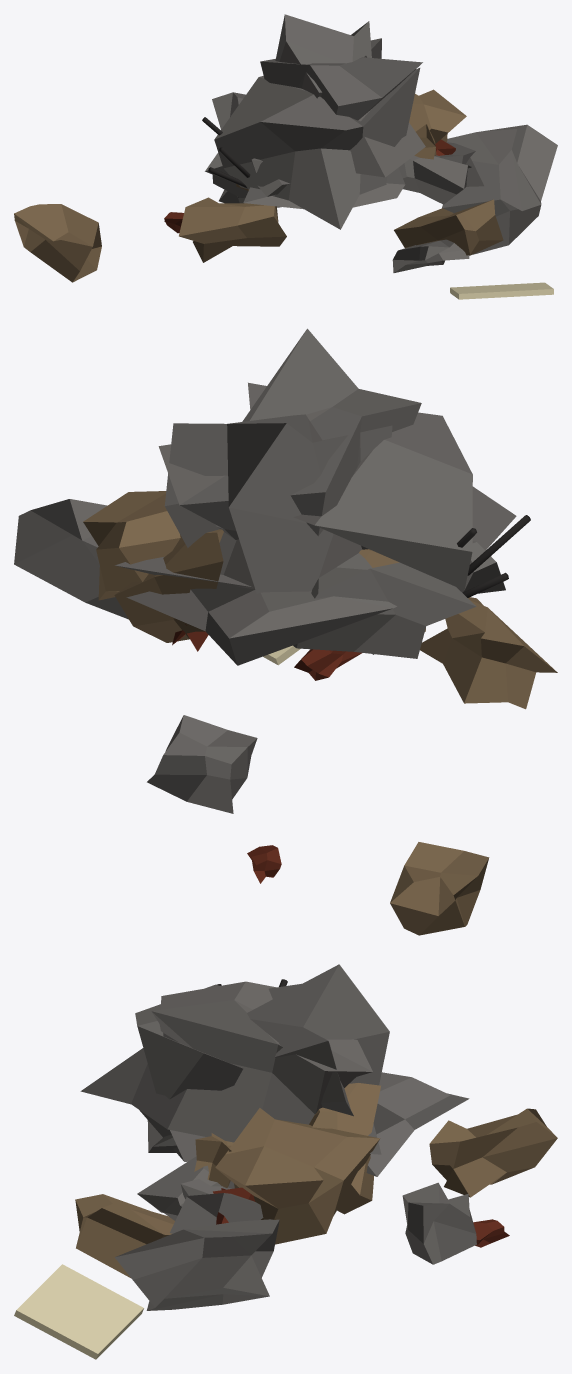
File: cover_rubble_2.glb
3 views of the same model, one above another, from view 1: azimuth 30°, elevation 25°; view 2: azimuth 150°, elevation 25°; view 3: azimuth 270°, elevation 25° (orthographic). The views are drawn at different scales.
Visible parts, largest first — view 1: lump_23, lump_21, lump_8, lump_15, lump_5, lump_7, lump_10, slab, lump_9, lump_6, lump_11, frame (+3 smaller); view 2: lump_7, lump_23, lump_8, slab, lump_12, lump_5, lump_21, lump_4, lump_15, lump_6, lump_0, lump_13 (+1 smaller); view 3: lump_8, lump_6, lump_21, lump_7, lump_23, lump_15, frame, slab, lump_10, lump_4, lump_0, lump_2 (+3 smaller).
Boxes of the visible parts, <box> form: lump_23: <box>214,68,420,229</box>; lump_21: <box>442,124,557,254</box>; lump_8: <box>260,38,425,177</box>; lump_15: <box>14,204,101,282</box>; lump_5: <box>179,197,286,262</box>; lump_7: <box>275,14,371,98</box>; lump_10: <box>394,199,503,255</box>; slab: <box>212,92,405,209</box>; lump_9: <box>403,155,471,204</box>; lump_6: <box>409,89,466,143</box>; lump_11: <box>392,239,469,272</box>; frame: <box>450,282,553,299</box>; lump_7: <box>164,414,392,593</box>; lump_23: <box>248,382,516,592</box>; lump_8: <box>158,328,421,539</box>; slab: <box>115,541,505,665</box>; lump_12: <box>293,553,476,658</box>; lump_5: <box>420,597,557,709</box>; lump_21: <box>14,499,128,619</box>; lump_4: <box>147,715,257,813</box>; lump_15: <box>390,842,489,935</box>; lump_6: <box>83,491,180,600</box>; lump_0: <box>114,529,223,642</box>; lump_13: <box>294,649,361,680</box>; lump_8: <box>131,981,372,1142</box>; lump_6: <box>215,1108,380,1244</box>; lump_21: <box>115,1219,279,1310</box>; lump_7: <box>247,964,389,1116</box>; lump_23: <box>80,984,242,1161</box>; lump_15: <box>429,1108,557,1197</box>; frame: <box>14,1264,143,1359</box>; slab: <box>147,1072,469,1176</box>; lump_10: <box>75,1194,174,1277</box>; lump_4: <box>402,1182,476,1264</box>; lump_0: <box>309,1083,380,1214</box>; lump_2: <box>170,1179,263,1233</box>.
Size of the model in its own units: 2.51 by 1.5 by 2.3.
